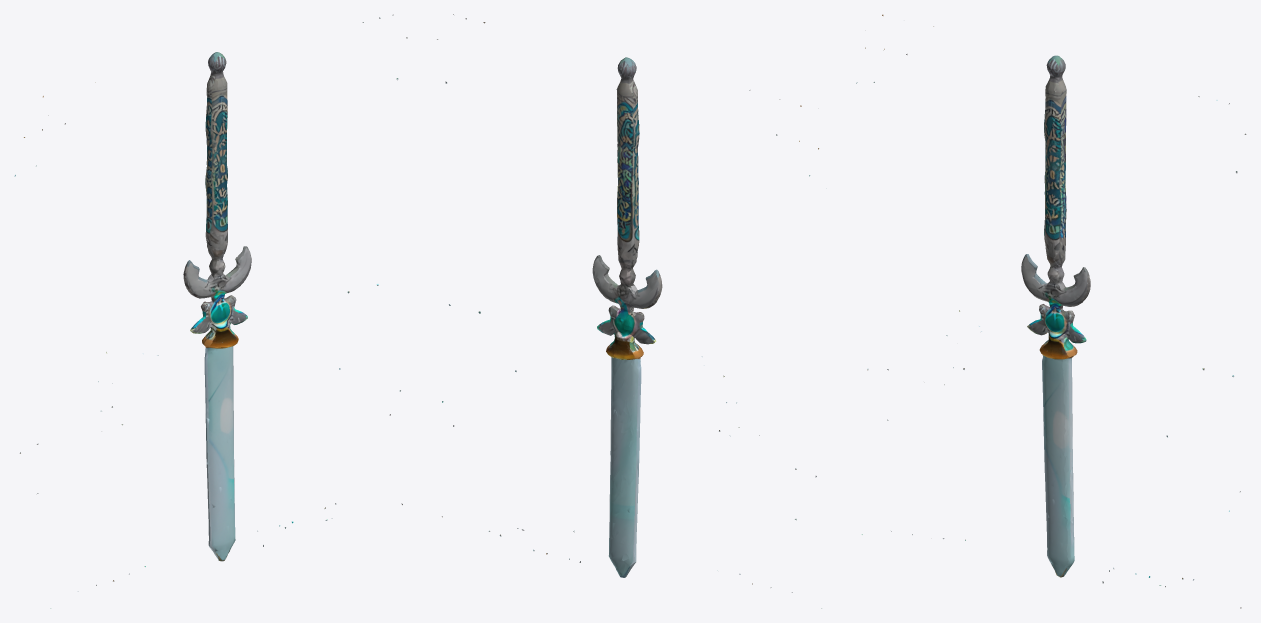
Rendered from xx_jian_3d.glb.
3 views of the same model, side by side, from view 1: azimuth 30°, elevation 25°; view 2: azimuth 150°, elevation 25°; view 3: azimuth 330°, elevation 25° (orthographic). The views are drawn at different scales.
Parts seen in each view (by area): view 1: xx_jian_3d; view 2: xx_jian_3d; view 3: xx_jian_3d.
Boxes of the visible parts, box(x1,y1,x2,y2) form: xx_jian_3d: box(14, 14, 407, 608); xx_jian_3d: box(437, 14, 821, 608); xx_jian_3d: box(856, 14, 1246, 608).
Bounding box in the file's own units: 1.59 × 2 × 0.1493.
Materials: 1 (1 with a texture image).
